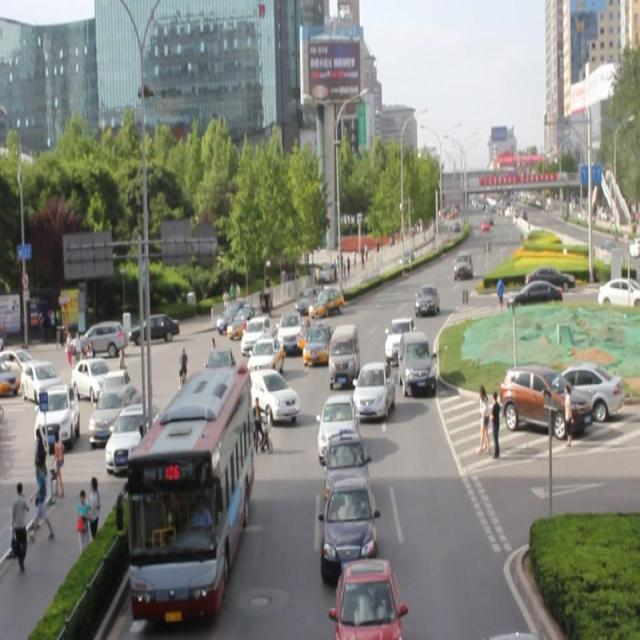car: (334, 554, 399, 640), (323, 477, 377, 574), (324, 431, 371, 511), (242, 366, 299, 419), (317, 392, 357, 462), (352, 360, 394, 420), (398, 331, 434, 394), (248, 334, 288, 376), (304, 316, 338, 362), (201, 345, 233, 393), (274, 307, 304, 357), (240, 314, 274, 354), (311, 279, 348, 315), (385, 316, 413, 362), (414, 282, 438, 314)
truck: (328, 322, 358, 382)
van: (129, 366, 252, 613)
